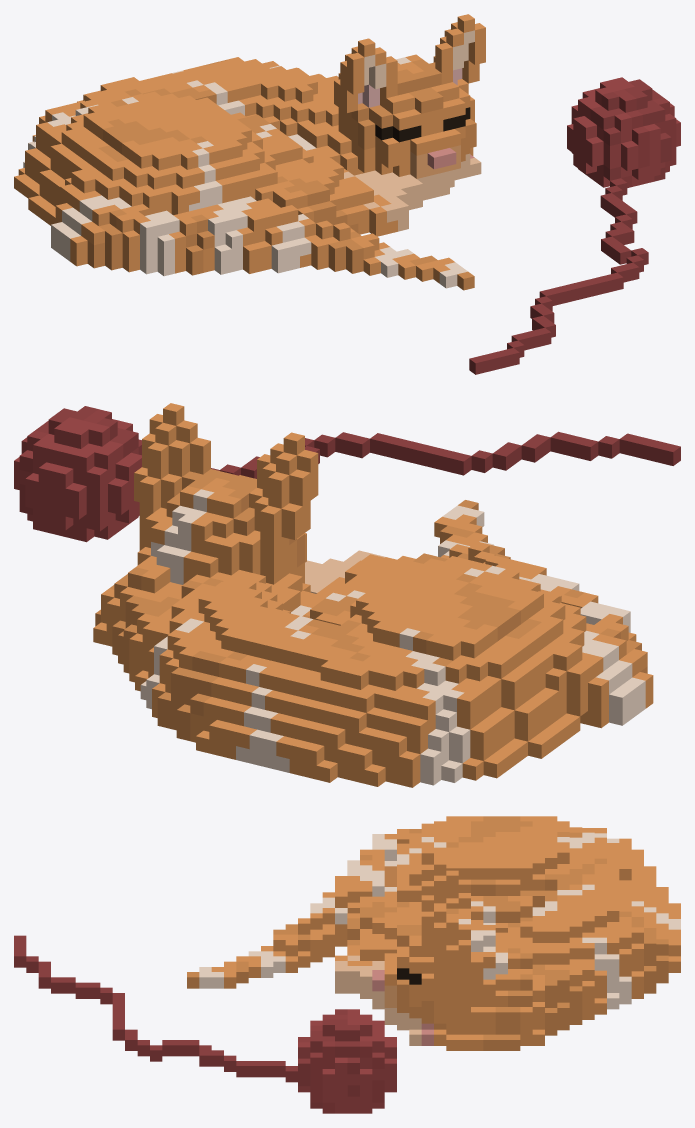
Rendered from orangecat.glb.
3 renders of one model, top to bottom at view 1: azimuth 30°, elevation 25°; view 2: azimuth 150°, elevation 25°; view 3: azimuth 270°, elevation 25°, orthographic. The views are drawn at different scales.
Parts seen in each view (by area): view 1: Object_2; view 2: Object_2; view 3: Object_2.
Boxes of the visible parts, box(x1,y1,x2,y2) form: Object_2: box(14, 14, 680, 374); Object_2: box(14, 403, 680, 787); Object_2: box(14, 816, 680, 1113).
Size of the model in its own units: 5 by 1.3 by 5.4.
Materials: 1 (1 with a texture image).
